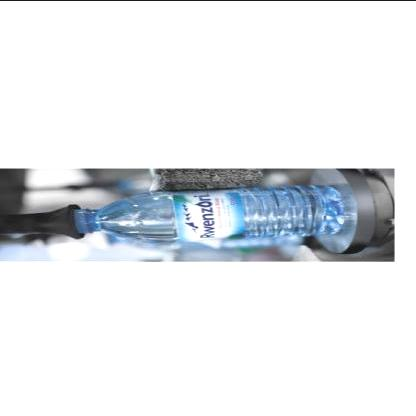bottle: (61, 179, 352, 246)
